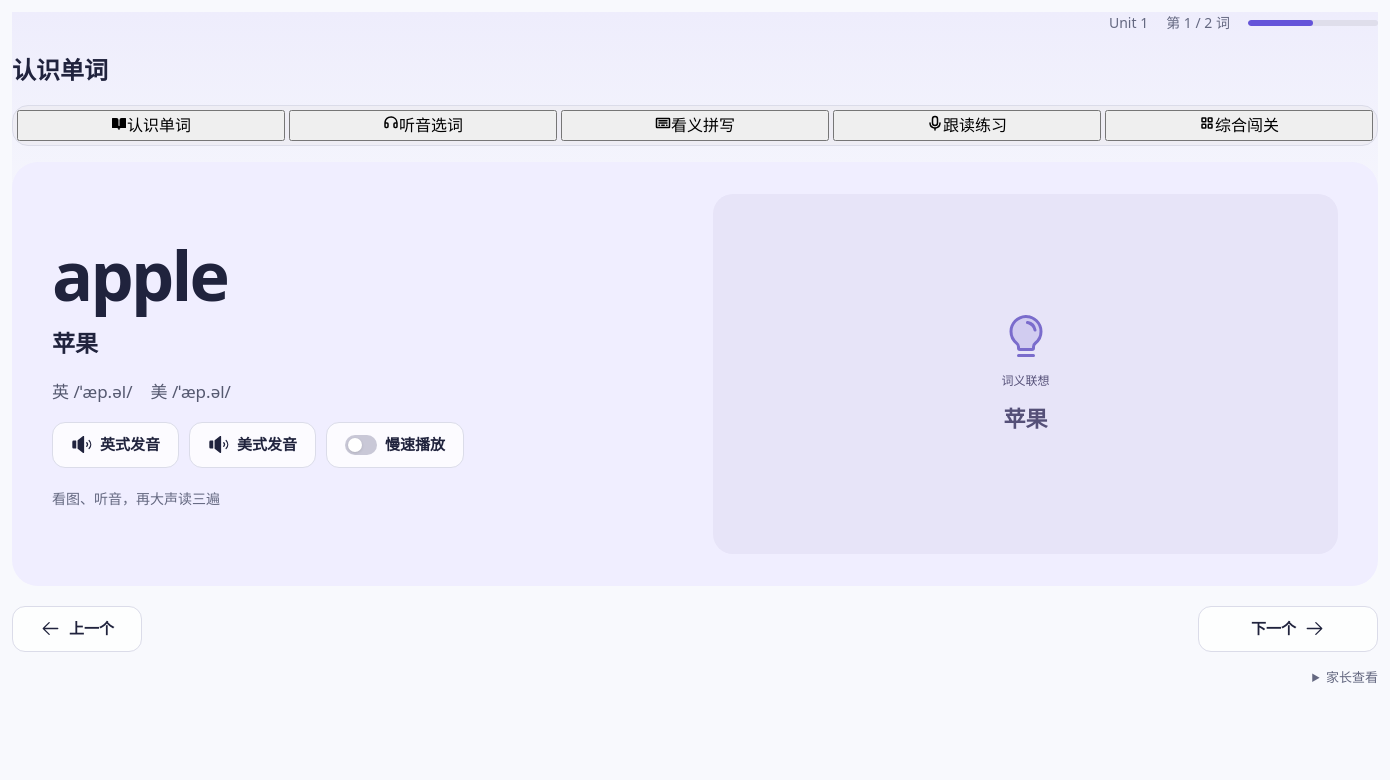
PracticePage verified session › keeps a failed-save warning visible after automatically advancing
Expected: the text "第 1 / 2 词" is shown, x1=1166 y1=12 x2=1230 y2=34
Click the button "看义拼写".
click(695, 125)  # box x1=561 y1=110 x2=829 y2=141
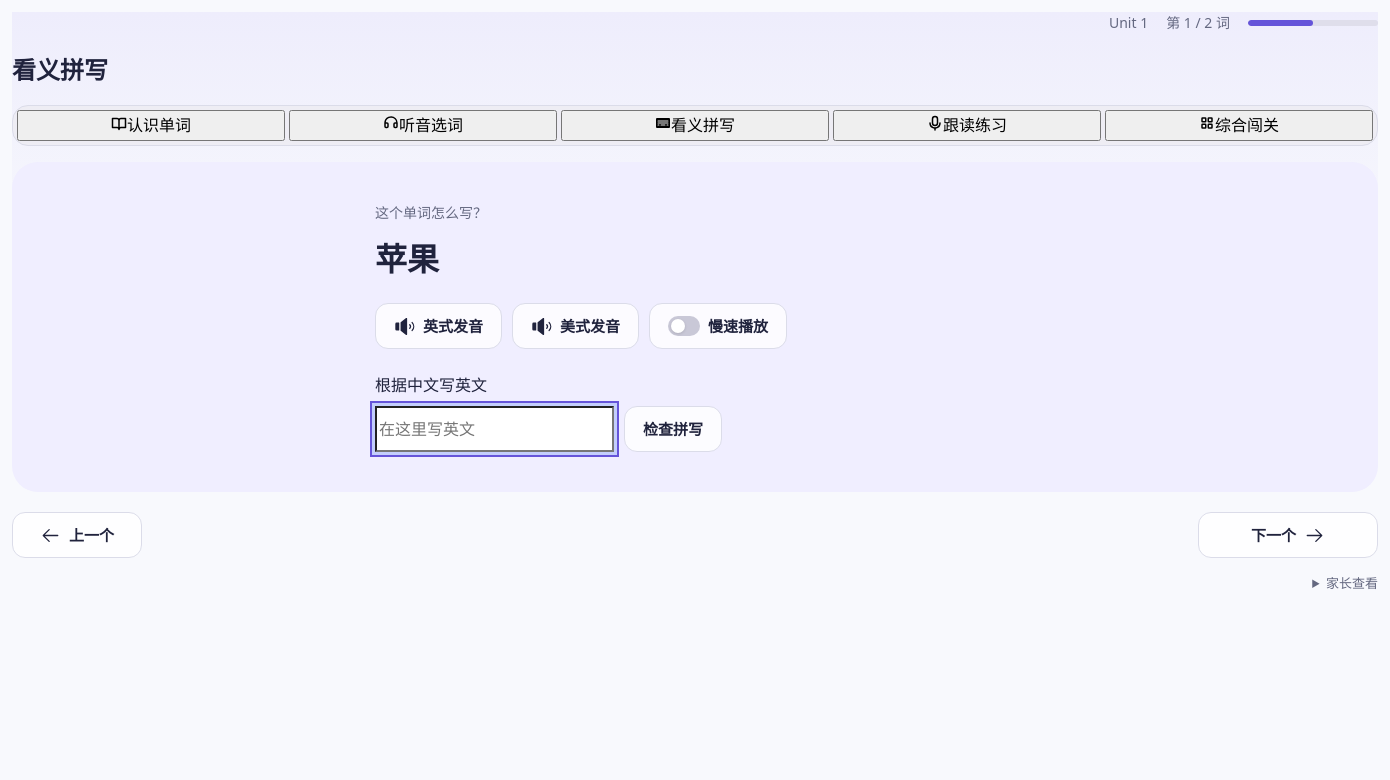
Type "apple" into the field labelled "根据中文写英文".
click(494, 429); type("apple")  # box x1=375 y1=406 x2=614 y2=452
Then press Enter
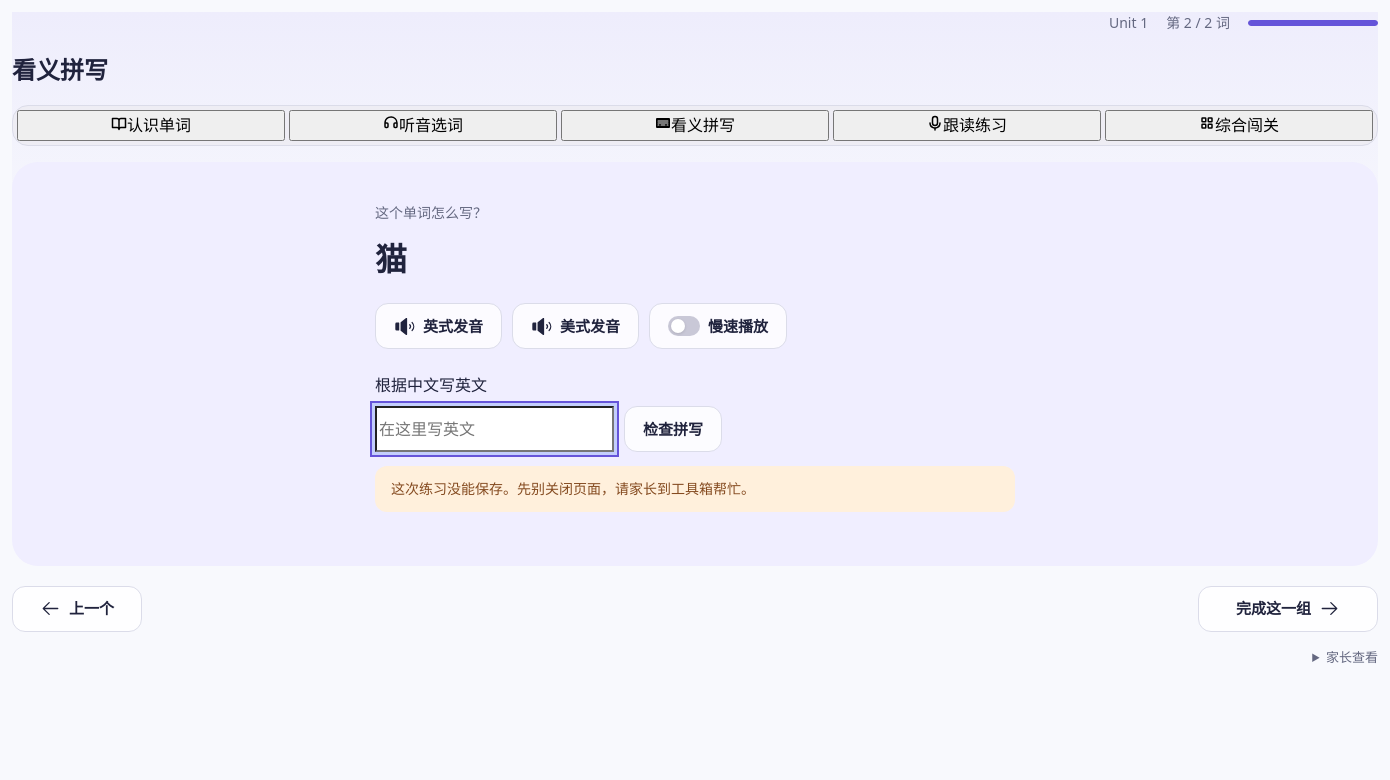
Result: the text "第 2 / 2 词" is shown at x1=1166 y1=12 x2=1230 y2=34
Result: the message shows "这次练习没能保存" at x1=391 y1=479 x2=755 y2=498
